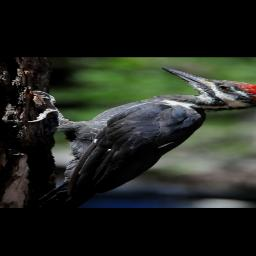Woodpecker: (27, 67, 256, 207)
